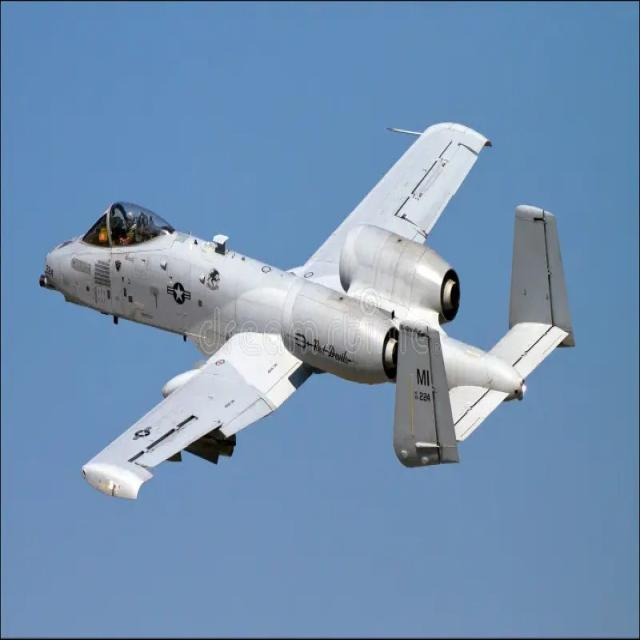A10: (25, 69, 582, 504)
